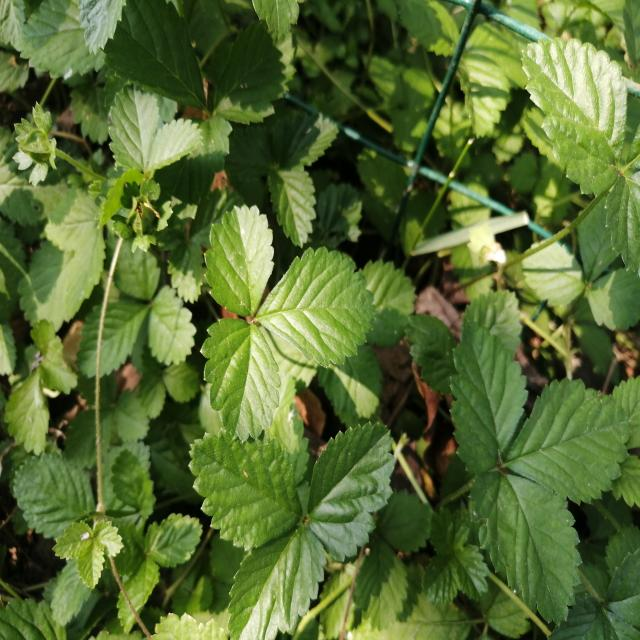Mock_strawberry: (166, 402, 396, 620)
